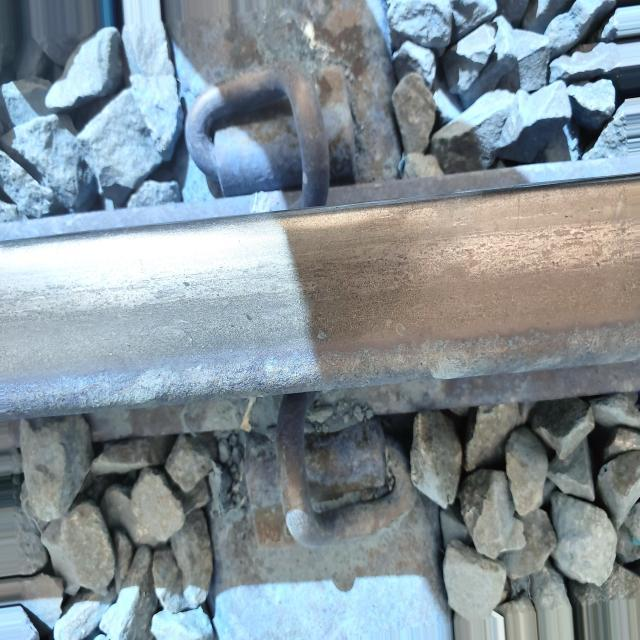Good Fasteners: (218, 404, 451, 578), (167, 61, 395, 203)
